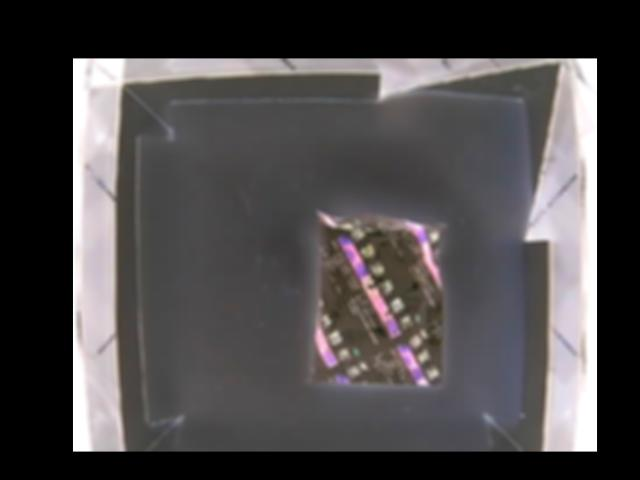Medicine: (315, 208, 444, 388)
